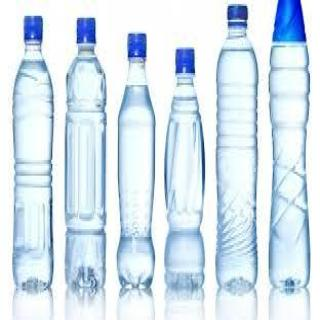Plastic-bottle: (216, 3, 262, 297), (267, 1, 313, 295), (12, 13, 58, 297), (64, 15, 110, 299), (116, 29, 158, 297), (164, 47, 208, 296)
